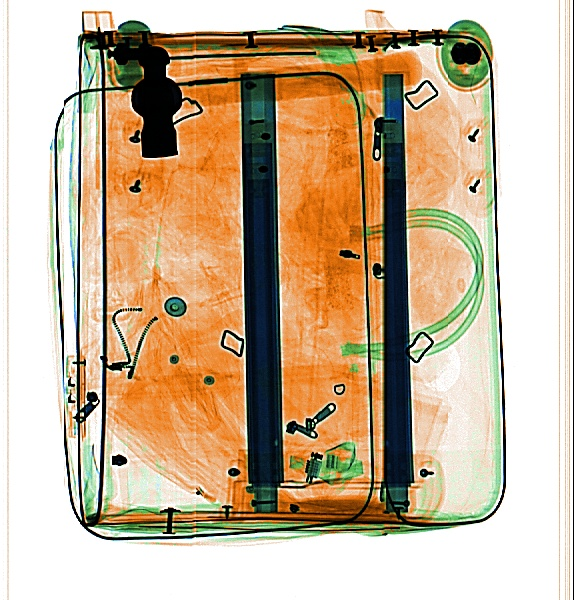hammer: (115, 45, 427, 163)
